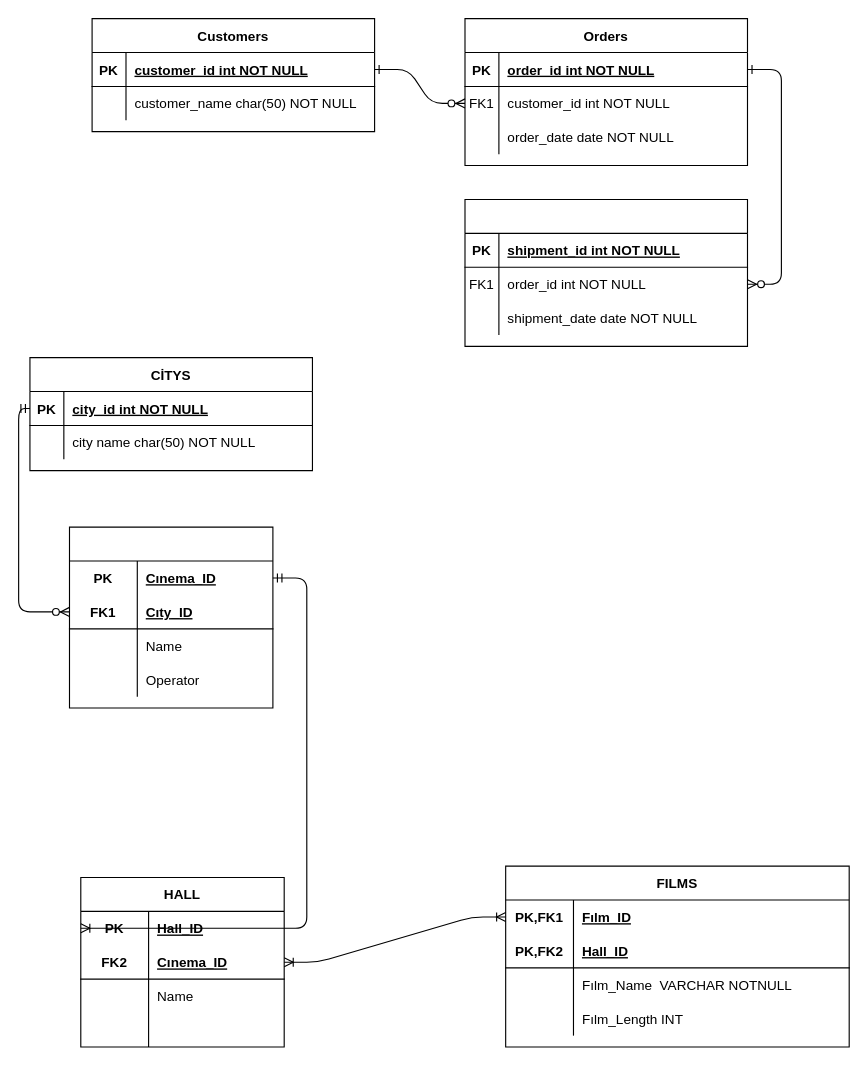
This 868x1066 diagram has some shape labels left out. Each missing label, with the box of its shape:
CINEMAS: (68, 526, 273, 708)
Shipments: (464, 198, 747, 346)
